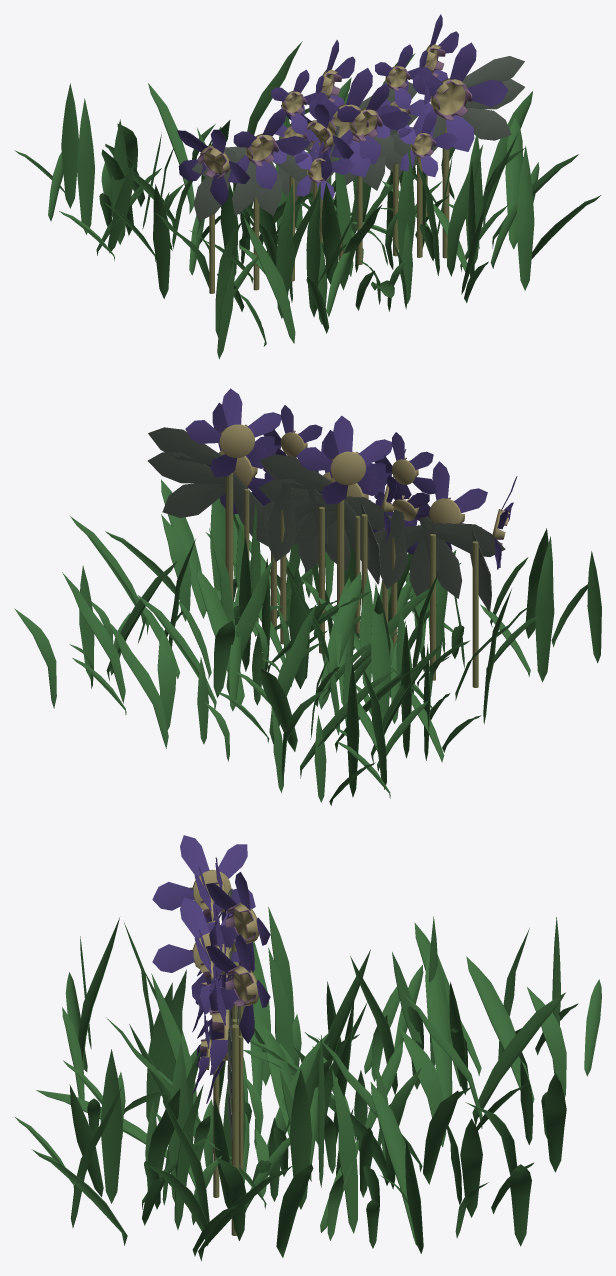
Rendered from PlantE.fbx.
The picture shows the model from 3 angles, top to bottom: view 1: azimuth 30°, elevation 25°; view 2: azimuth 150°, elevation 25°; view 3: azimuth 270°, elevation 25°; orthographic projection. The views are drawn at different scales.
Visible parts, largest first — view 1: pCube300; view 2: pCube300; view 3: pCube300.
Part boxes in pixels (x1,y1,x2,y2): pCube300: (14,14,601,359); pCube300: (14,388,601,805); pCube300: (15,835,601,1261).
Size of the model in its own units: 3.2 by 1.79 by 3.08.
